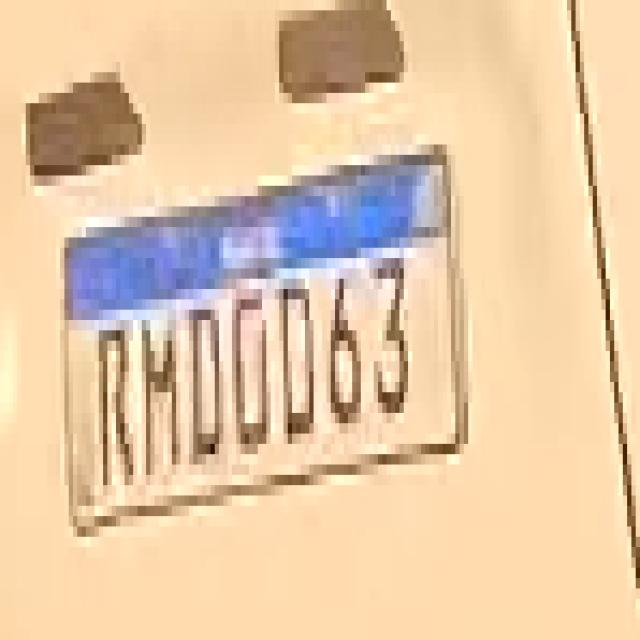Placa_mercosul_carro: (64, 145, 467, 540)
